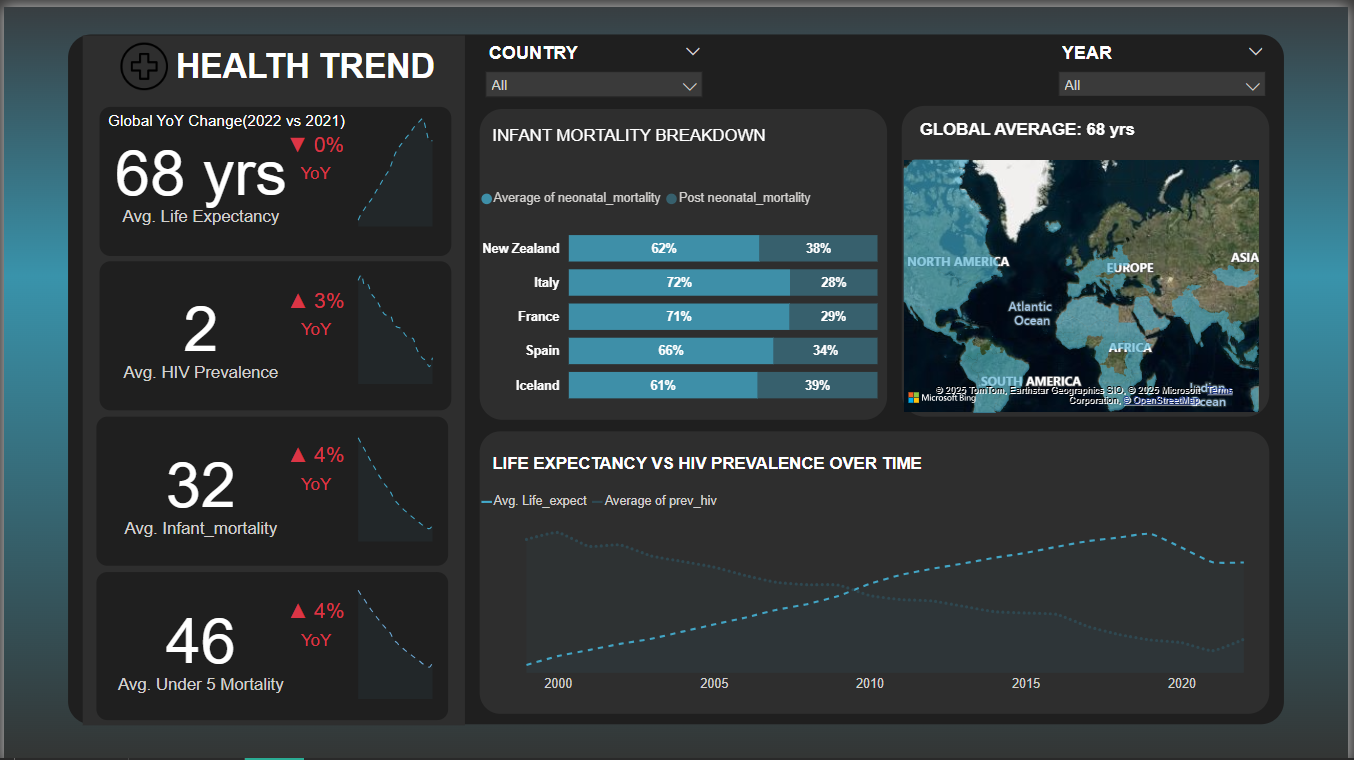

The dashboard page shown, as its layout file describes it:
{"tool":"powerbi","page":{"name":"Page 2","canvas":[1280,720],"ordinal":1},"visuals":[{"type":"areaChart","fields":{"Category":["world_health_data.year"],"Y":["Avg(world_health_data.infant_mortality)"]},"box":[294.6,385.5,153,128],"z":0},{"type":"card","fields":{"Values":["Measures Table.Avg. Infant_mortality"]},"box":[98.6,404.4,177,109],"z":1000},{"type":"areaChart","fields":{"Category":["world_health_data.year"],"Y":["Avg(world_health_data.prev_hiv)"]},"box":[294.6,235.8,153,128],"z":2000},{"type":"card","fields":{"Values":["Avg(world_health_data.prev_hiv)"]},"box":[98.6,256,177,109],"z":3000},{"type":"card","fields":{"Values":["Avg(world_health_data.under_5_mortality)"]},"box":[98.6,552.8,177,109],"z":4000},{"type":"areaChart","fields":{"Category":["world_health_data.year"],"Y":["Avg(world_health_data.neonatal_mortality)"]},"box":[294.6,535.2,153,128],"z":5000},{"type":"filledMap","fields":{"Category":["world_health_data.country"]},"box":[851.4,140,348.6,251.4],"z":6000},{"type":"hundredPercentStackedBarChart","fields":{"Category":["world_health_data.country"],"Y":["Avg(world_health_data.neonatal_mortality)","Measures Table.Post Mortality"]},"box":[448.9,163,388.2,228.5],"z":7000},{"type":"slicer","fields":{"Values":["world_health_data.year"]},"box":[993.8,28.8,217.3,55.9],"z":8000},{"type":"slicer","fields":{"Values":["world_health_data.country"]},"box":[448.9,28.8,226.9,67.1],"z":9000},{"type":"textbox","box":[78.3,33.6,362.7,57.5],"z":10000},{"type":"card","fields":{"Values":["Measures Table.Avg-life-label"]},"box":[98.4,107.5,177.2,109],"z":11000},{"type":"areaChart","fields":{"Category":["world_health_data.year"],"Y":["Avg(world_health_data.life_expect)"]},"box":[294.6,86.2,153,128],"z":12000},{"type":"card","fields":{"Values":["Measures Table.lifeexp change trend"]},"box":[253.5,107,87,67.1],"z":13000},{"type":"card","fields":{"Values":["Measures Table.Prev_HIV trend"]},"box":[253.1,255.1,87.9,67.1],"z":14000},{"type":"card","fields":{"Values":["Measures Table.infant mortality change trend"]},"box":[253.1,403.1,87.9,67.1],"z":15000},{"type":"card","fields":{"Values":["Measures Table.under_5 change trend"]},"box":[253.1,551.2,87.9,67.1],"z":16000},{"type":"areaChart","fields":{"Category":["world_health_data.year"],"Y":["Measures Table.Avg. Life_expect"],"Y2":["Avg(world_health_data.prev_hiv)"]},"box":[448.9,452.1,750.9,209.3],"z":17000},{"type":"image","box":[92.7,28.8,81.5,55.9],"z":18000},{"type":"textbox","box":[460.1,420.2,472.9,30.4],"z":19000},{"type":"textbox","box":[460.1,107,290.8,33.6],"z":20000},{"type":"card","fields":{"Values":["Measures Table.YoY_ explanation"]},"box":[12.5,90,397.5,40],"z":21000},{"type":"card","fields":{"Values":["Measures Table.Country Life Expec"]},"box":[824.3,95.7,300,44.3],"z":22000}]}

Visuals, with their boxes in screenshot pixels (x1, y1, x2, y2), scaled from the page's 1280x720 canvas onto the 1354x760 screenshot:
areaChart - world_health_data.year x Avg(world_health_data.infant_mortality): box(312, 407, 473, 542)
card - Measures Table.Avg. Infant_mortality: box(104, 427, 292, 542)
areaChart - world_health_data.year x Avg(world_health_data.prev_hiv): box(312, 249, 473, 384)
card - Avg(world_health_data.prev_hiv): box(104, 270, 292, 385)
card - Avg(world_health_data.under_5_mortality): box(104, 584, 292, 699)
areaChart - world_health_data.year x Avg(world_health_data.neonatal_mortality): box(312, 565, 473, 700)
filledMap - world_health_data.country: box(901, 148, 1269, 413)
hundredPercentStackedBarChart - world_health_data.country x Avg(world_health_data.neonatal_mortality): box(475, 172, 885, 413)
slicer - world_health_data.year: box(1051, 30, 1281, 89)
slicer - world_health_data.country: box(475, 30, 715, 101)
textbox: box(83, 35, 466, 96)
card - Measures Table.Avg-life-label: box(104, 113, 292, 229)
areaChart - world_health_data.year x Avg(world_health_data.life_expect): box(312, 91, 473, 226)
card - Measures Table.lifeexp change trend: box(268, 113, 360, 184)
card - Measures Table.Prev_HIV trend: box(268, 269, 361, 340)
card - Measures Table.infant mortality change trend: box(268, 425, 361, 496)
card - Measures Table.under_5 change trend: box(268, 582, 361, 653)
areaChart - world_health_data.year x Measures Table.Avg. Life_expect: box(475, 477, 1269, 698)
image: box(98, 30, 184, 89)
textbox: box(487, 444, 987, 476)
textbox: box(487, 113, 794, 148)
card - Measures Table.YoY_ explanation: box(13, 95, 434, 137)
card - Measures Table.Country Life Expec: box(872, 101, 1189, 148)
